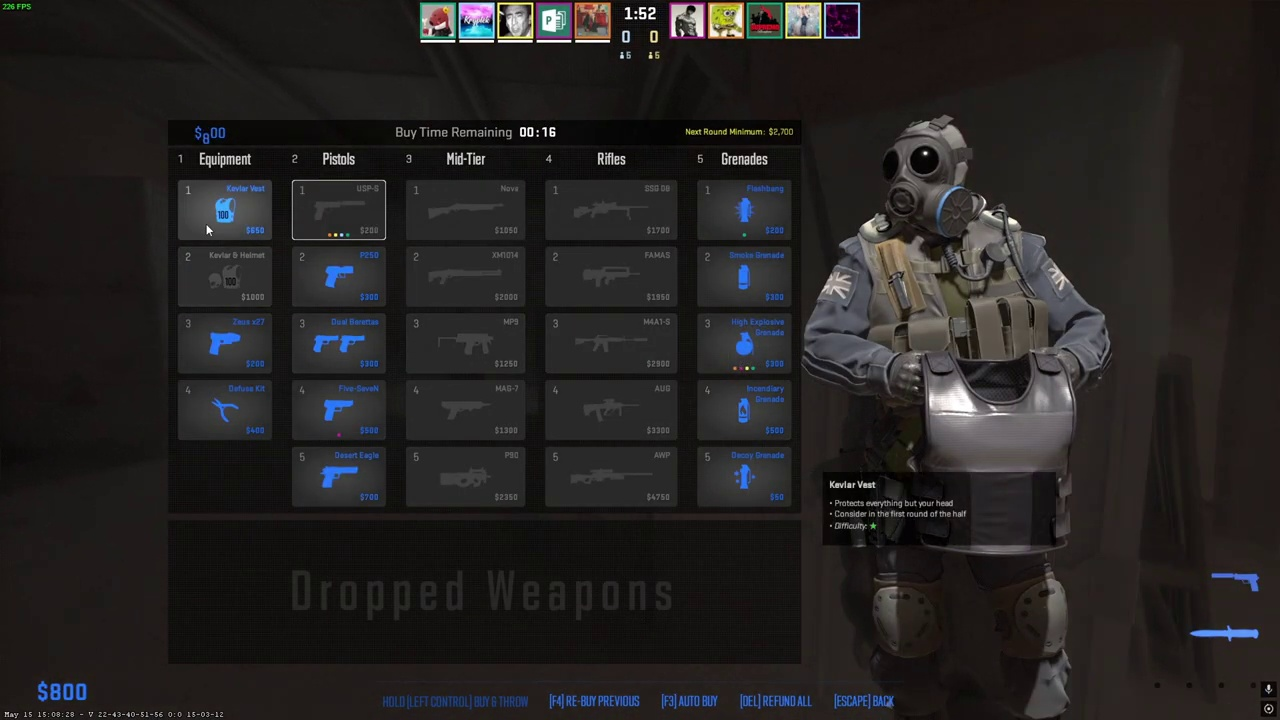CT: (849, 120, 1082, 720)
